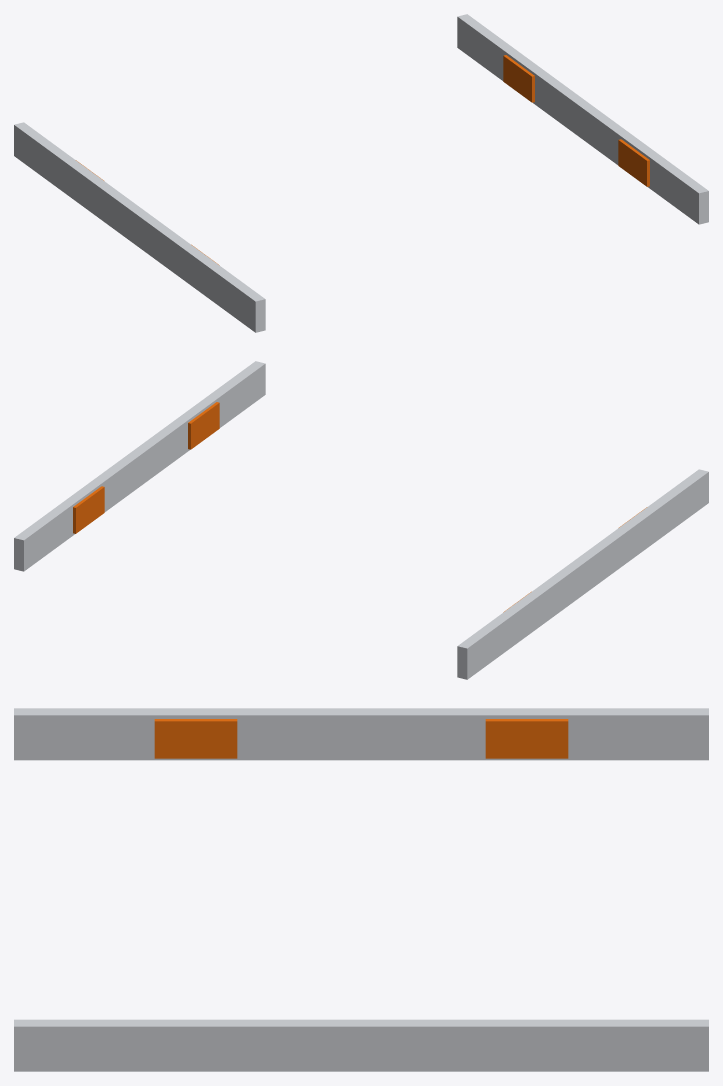
The model's file is arm.dae.
3 renders of one model, top to bottom at view 1: azimuth 30°, elevation 25°; view 2: azimuth 150°, elevation 25°; view 3: azimuth 270°, elevation 25°, orthographic. The views are drawn at different scales.
Parts seen in each view (by area): view 1: mesh; view 2: mesh; view 3: mesh.
Part boxes in pixels (left/top/right/bottom): mesh: left=14, top=14, right=708, bottom=332; mesh: left=14, top=361, right=708, bottom=679; mesh: left=14, top=708, right=708, bottom=1071.
Size of the model in its own units: 0.91 by 0.84 by 0.06.
